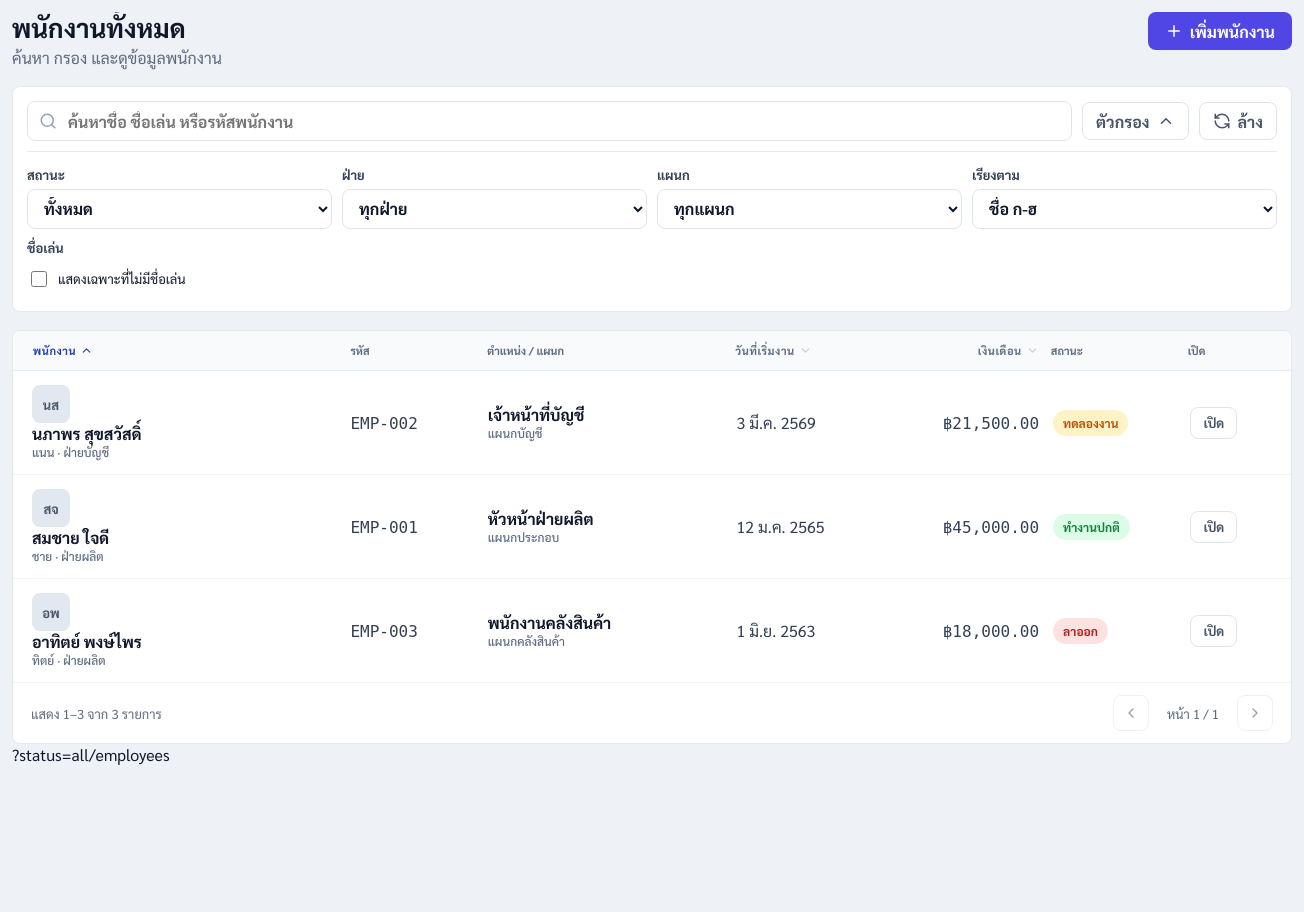
it: EmployeeListPage sorting › writes the sort param and reorders rows
Select "เงินเดือน มาก → น้อย" in the dropdown labelled "เรียงตาม": coordinates (1124, 209) left=972, top=189, right=1277, bottom=229
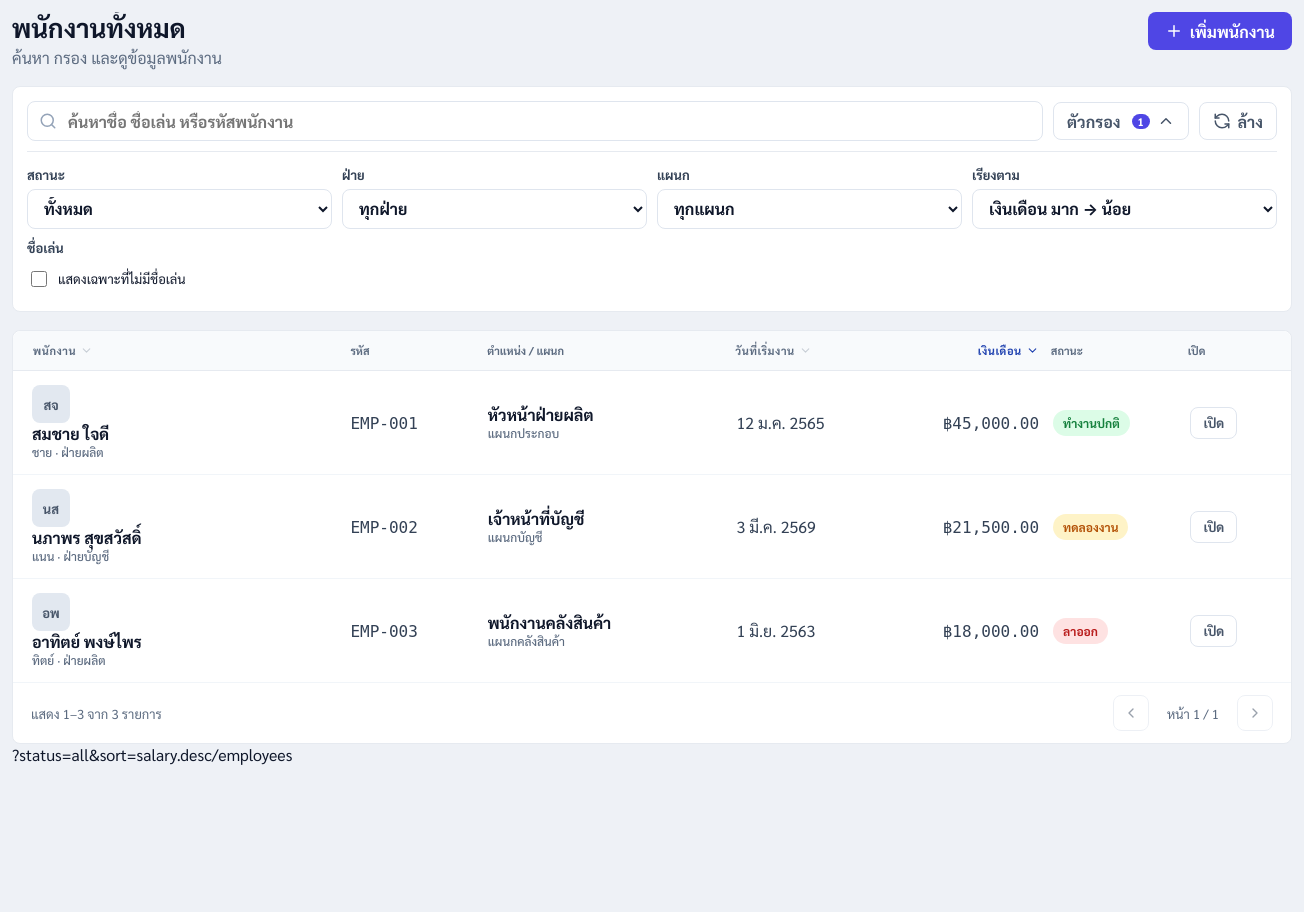
Check: the row with class "data-row" shows "สมชาย", box left=32, top=423, right=109, bottom=444
Check: the text with test id "search-params" shows "sort=salary.desc", box left=12, top=744, right=212, bottom=765
